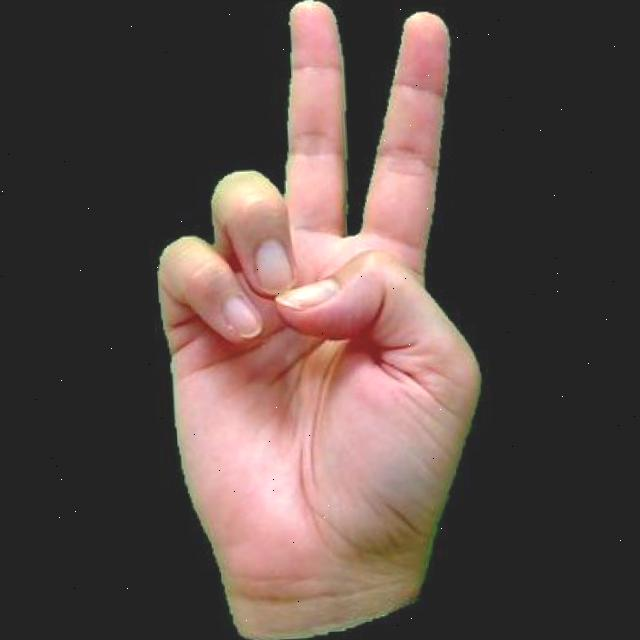v: (134, 0, 501, 640)
